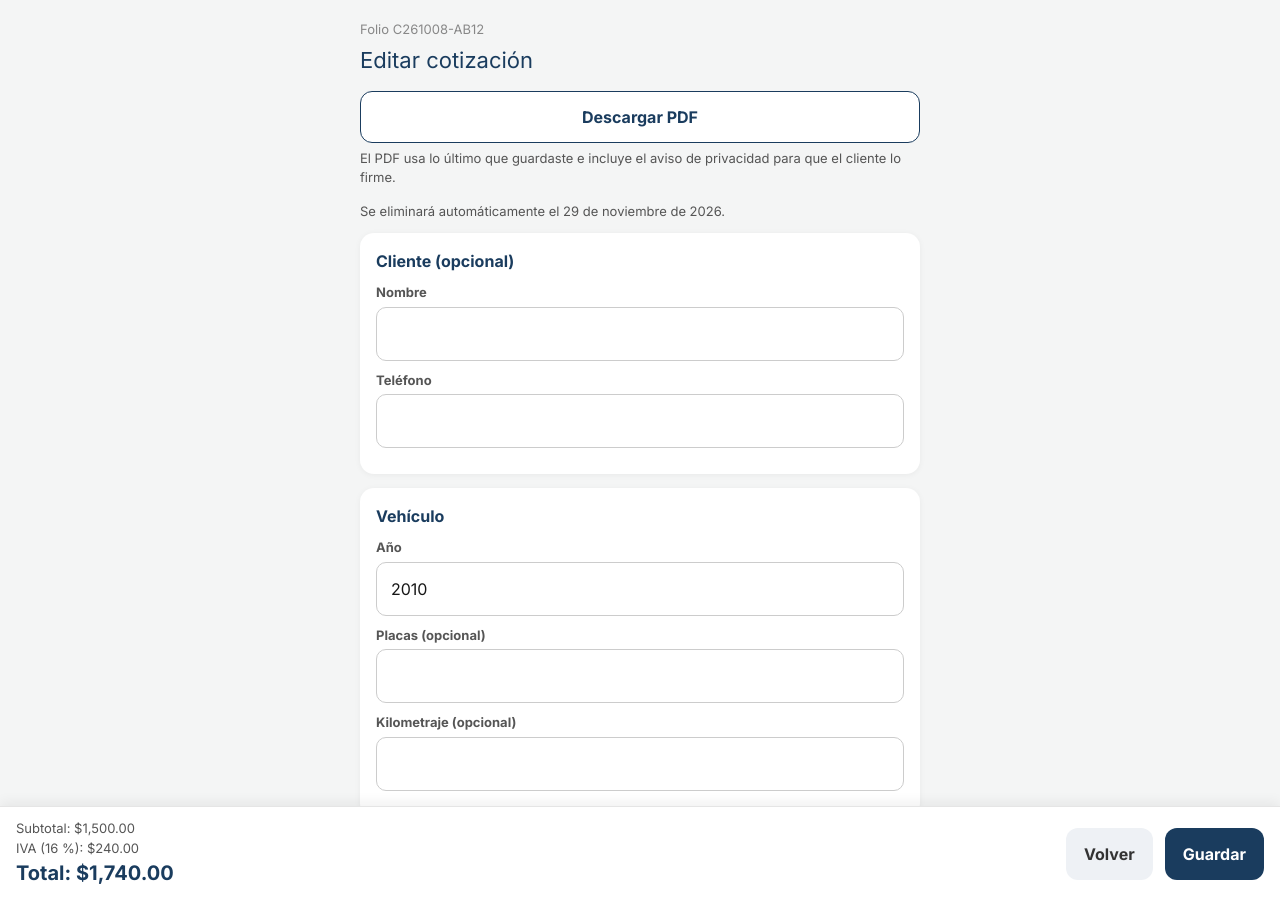
Test: PDF de la cotización según la versión de su aviso › sin datos del cliente y sin aviso: avisa que salió sin la hoja del aviso
Check: the text "Folio C261008-AB12" is shown, box 360,21 -> 484,37
Click the button "Descargar PDF": point(640, 116) 360,90 -> 920,142
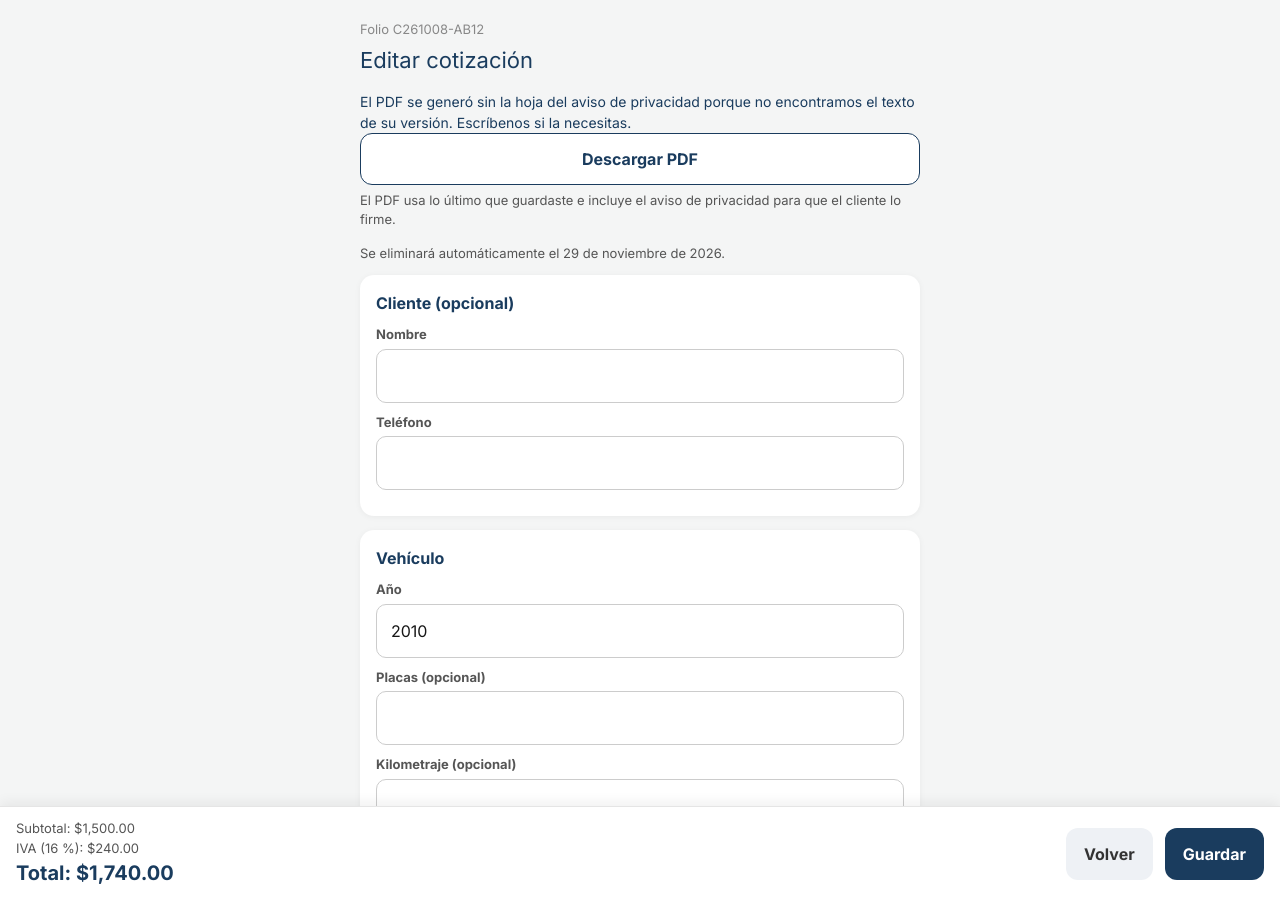
Check: the text "El PDF se generó sin la hoja del aviso de privacidad porque no encontramos el texto de su versión. Escríbenos si la nece" is shown, box 360,92 -> 915,130
